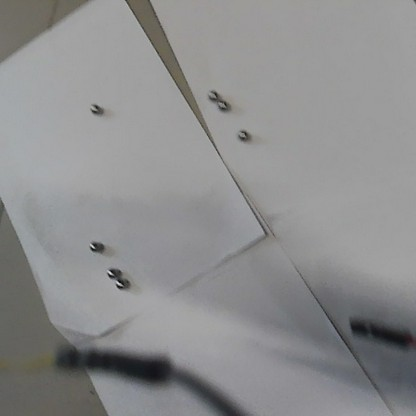ironball: (86, 237, 103, 253), (235, 126, 251, 142), (104, 264, 120, 280), (113, 274, 127, 290), (214, 98, 229, 112), (88, 100, 101, 116), (205, 88, 217, 102)
